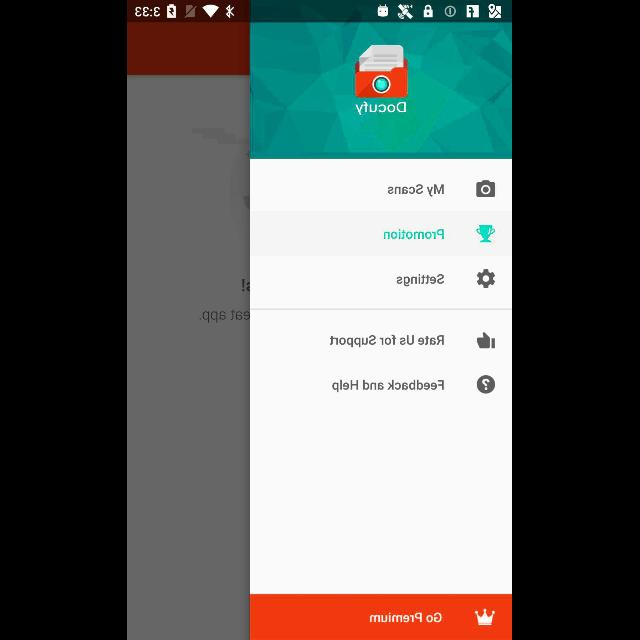icon: (478, 374, 497, 394), (476, 180, 496, 198), (478, 270, 497, 288)
image: (356, 44, 408, 98), (476, 225, 496, 243), (476, 332, 496, 348)
panel: (252, 22, 512, 640)
text: (330, 334, 444, 348), (333, 379, 445, 393), (355, 100, 407, 116), (388, 184, 446, 198), (384, 228, 446, 240), (397, 274, 445, 286)
textbutton: (252, 594, 512, 640)
uppertaskbar: (128, 1, 512, 23)
